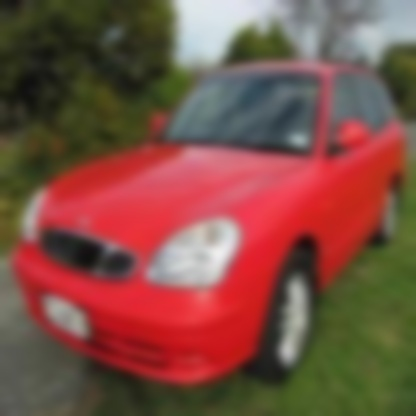Vehicle: (14, 60, 410, 390)
